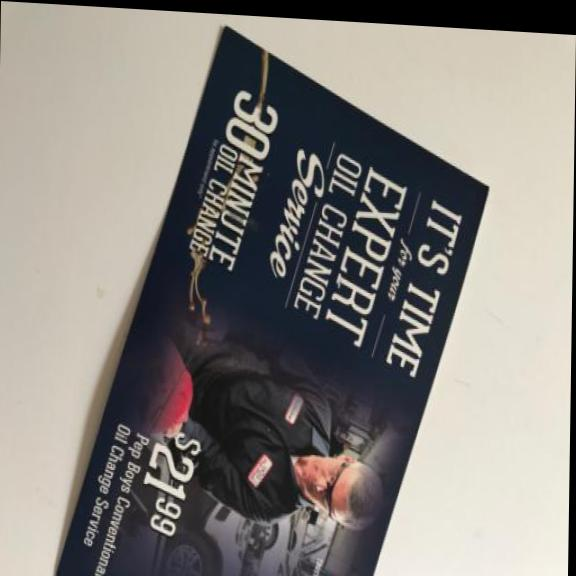Kertas: (46, 7, 488, 576)
